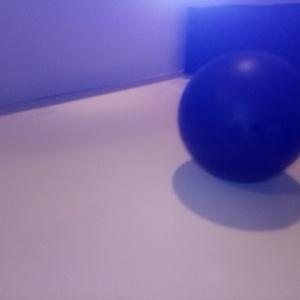dead_ball: (179, 51, 300, 181)
